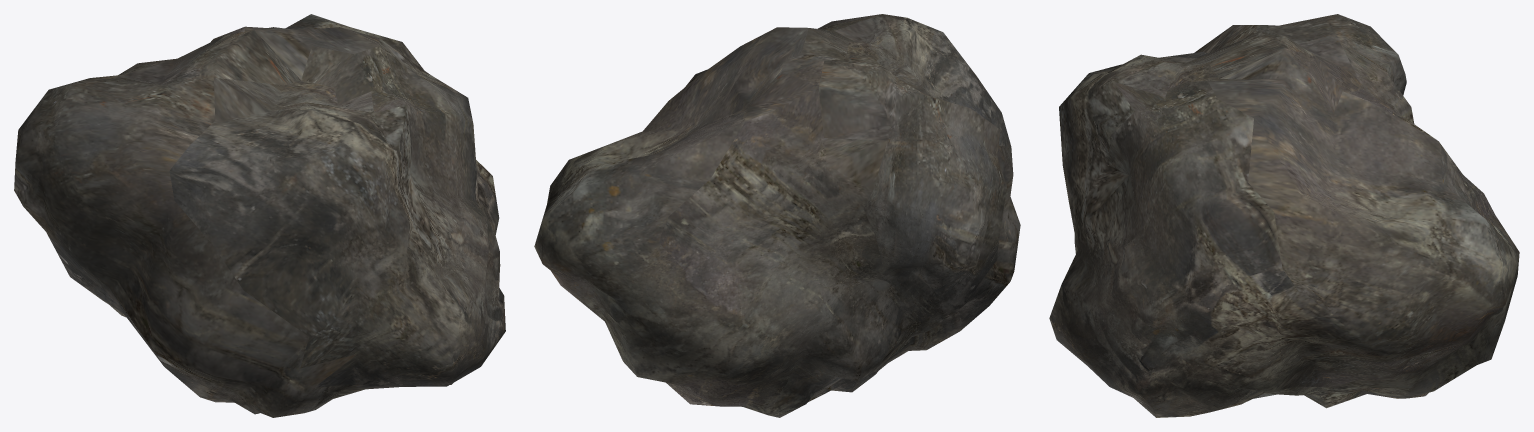
Rendered from Stone_Medium.fbx.
3 views of the same model, side by side, from view 1: azimuth 30°, elevation 25°; view 2: azimuth 150°, elevation 25°; view 3: azimuth 270°, elevation 25° (orthographic). The views are drawn at different scales.
Parts seen in each view (by area): view 1: Stone_Medium; view 2: Stone_Medium; view 3: Stone_Medium.
Part boxes in pixels (x1,y1,x2,y2): Stone_Medium: (14,14,505,417); Stone_Medium: (534,14,1020,417); Stone_Medium: (1049,14,1519,417).
Size of the model in its own units: 135 by 104 by 132.
